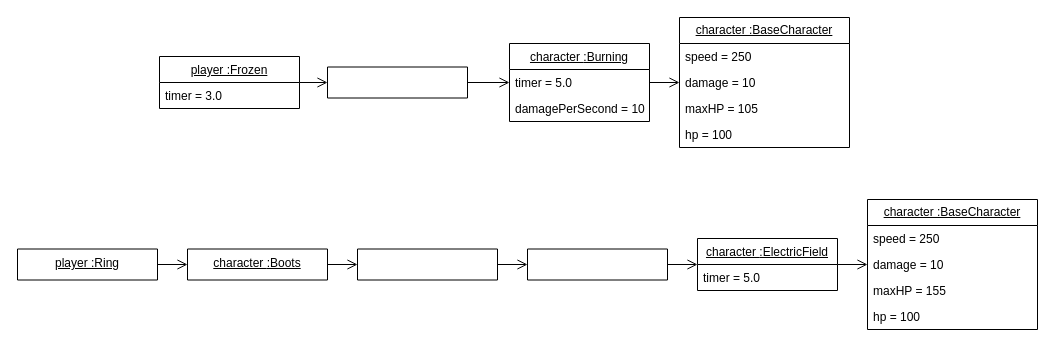
Some shapes in this 1055 by 350 pixel diagram are drawn without their labels. The shapes that lost their labels are listed below. From the top down, each one's box as (x1, y1, x2, y2) in pixels, then its label:
(326, 66, 468, 98): character :Ring
(356, 248, 498, 280): character :Pants
(526, 248, 668, 280): character :Shirt
